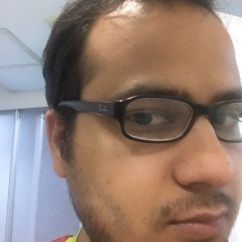glasses: (54, 87, 242, 139)
